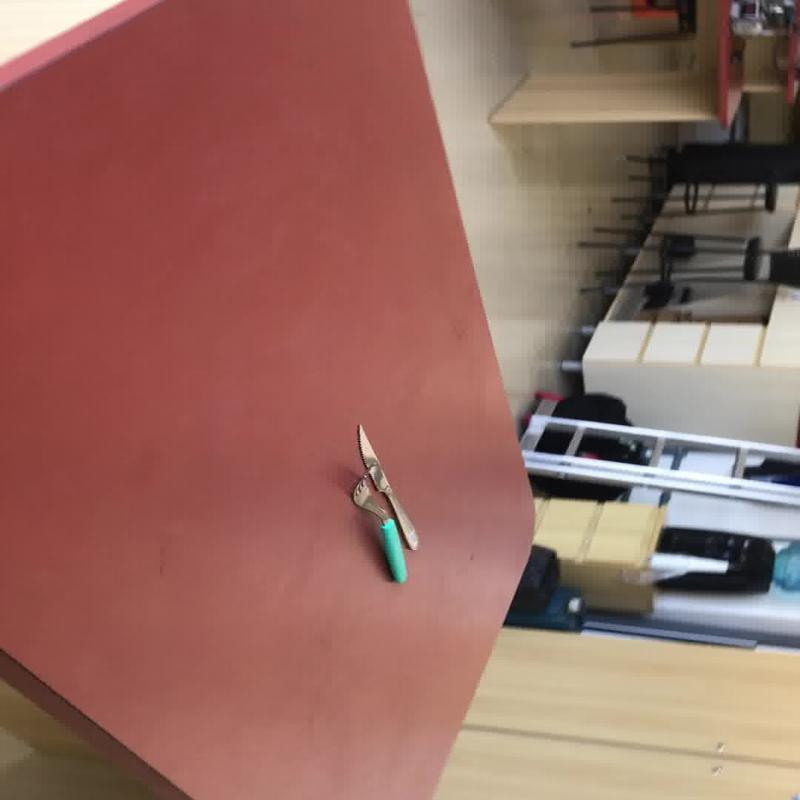knife: (352, 422, 419, 551), (349, 473, 406, 583)
